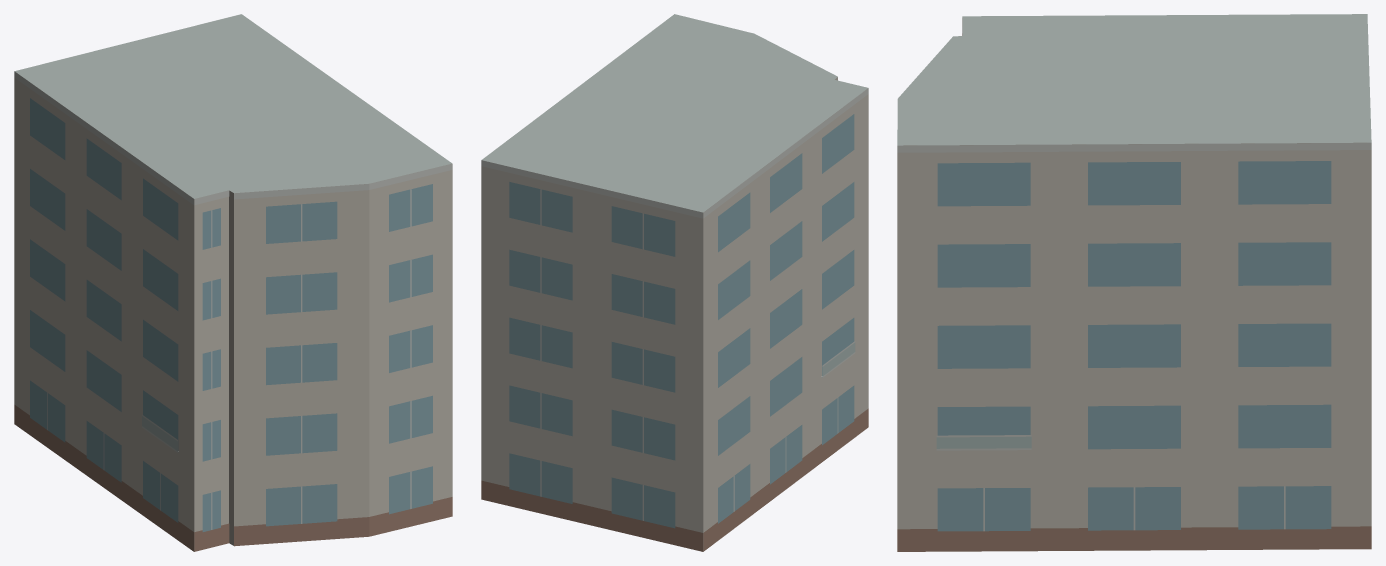
Rendered from survey-upis-32733998.glb.
The picture shows the model from 3 angles, left to right: view 1: azimuth 30°, elevation 25°; view 2: azimuth 150°, elevation 25°; view 3: azimuth 270°, elevation 25°; orthographic projection. The views are drawn at different scales.
Visible parts, largest first — view 1: survey-upis-32733998.tmp; view 2: survey-upis-32733998.tmp; view 3: survey-upis-32733998.tmp.
Part boxes in pixels (x1,y1,x2,y2): survey-upis-32733998.tmp: (14,14,452,551); survey-upis-32733998.tmp: (481,14,868,551); survey-upis-32733998.tmp: (897,14,1371,551).
Bounding box in the file's own units: 9.46 × 13.6 × 14.39.
